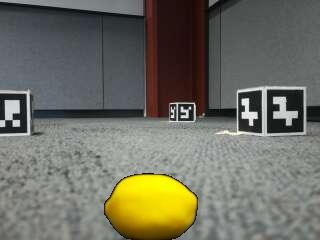lemon: (105, 174, 197, 240)
